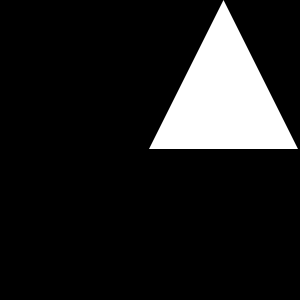triangle: (149, 0, 298, 149)
